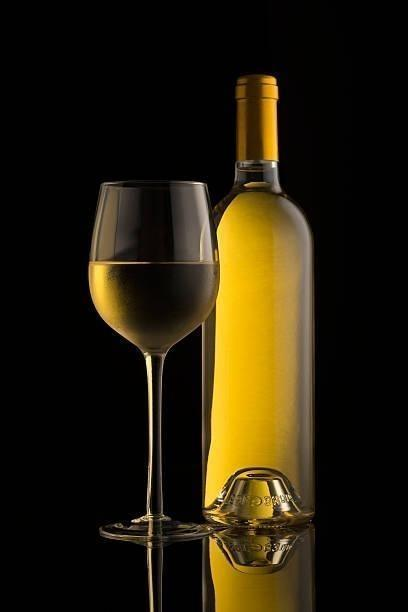bottle-glass: (196, 69, 322, 570)
glass-wine: (86, 176, 221, 546)
